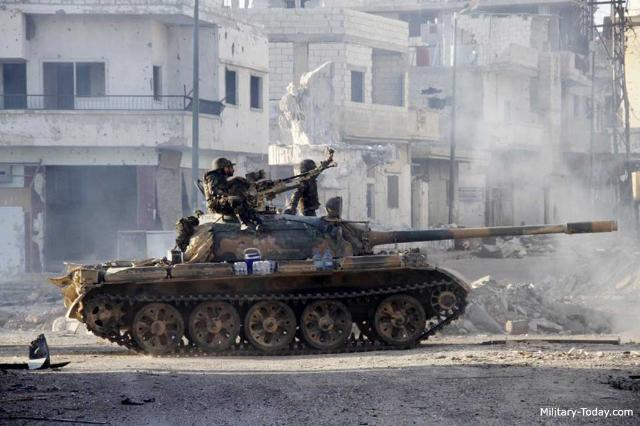other: (206, 159, 247, 210), (292, 158, 316, 212)
tank: (68, 214, 458, 341)
